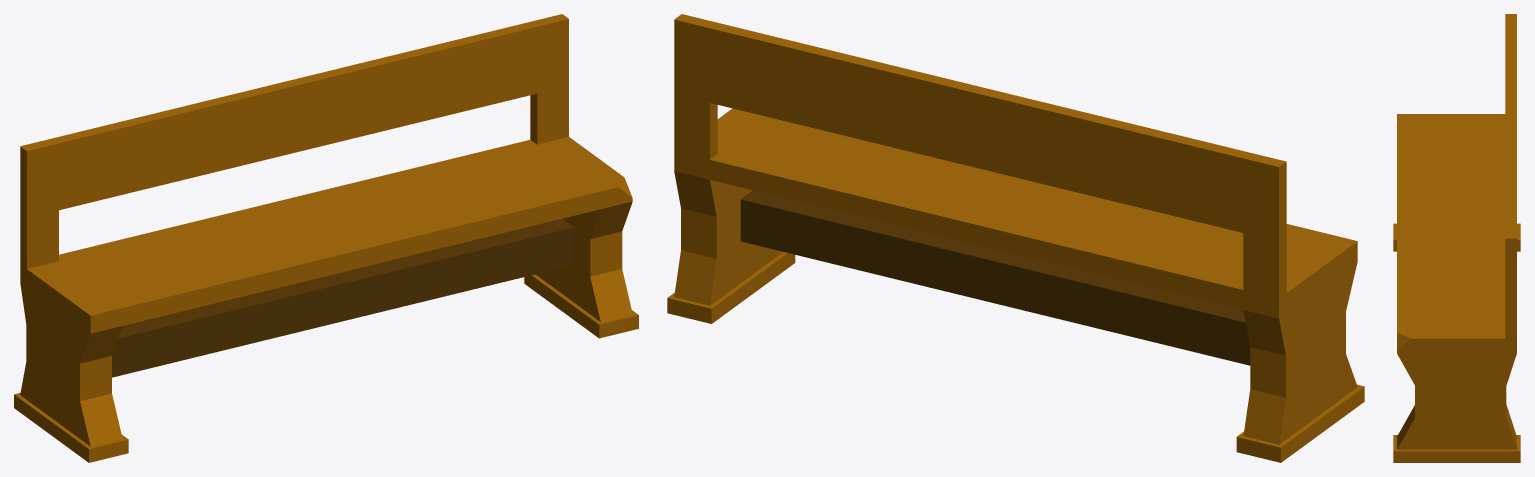
File: Bench_02.fbx
The picture shows the model from 3 angles, left to right: view 1: azimuth 30°, elevation 25°; view 2: azimuth 150°, elevation 25°; view 3: azimuth 270°, elevation 25°; orthographic projection. The views are drawn at different scales.
Visible parts, largest first — view 1: Bench_02; view 2: Bench_02; view 3: Bench_02.
Part boxes in pixels (x1,y1,x2,y2): Bench_02: (14, 14, 638, 462); Bench_02: (667, 14, 1364, 462); Bench_02: (1393, 14, 1520, 462).
Size of the model in its own units: 230 by 105 by 54.42.
